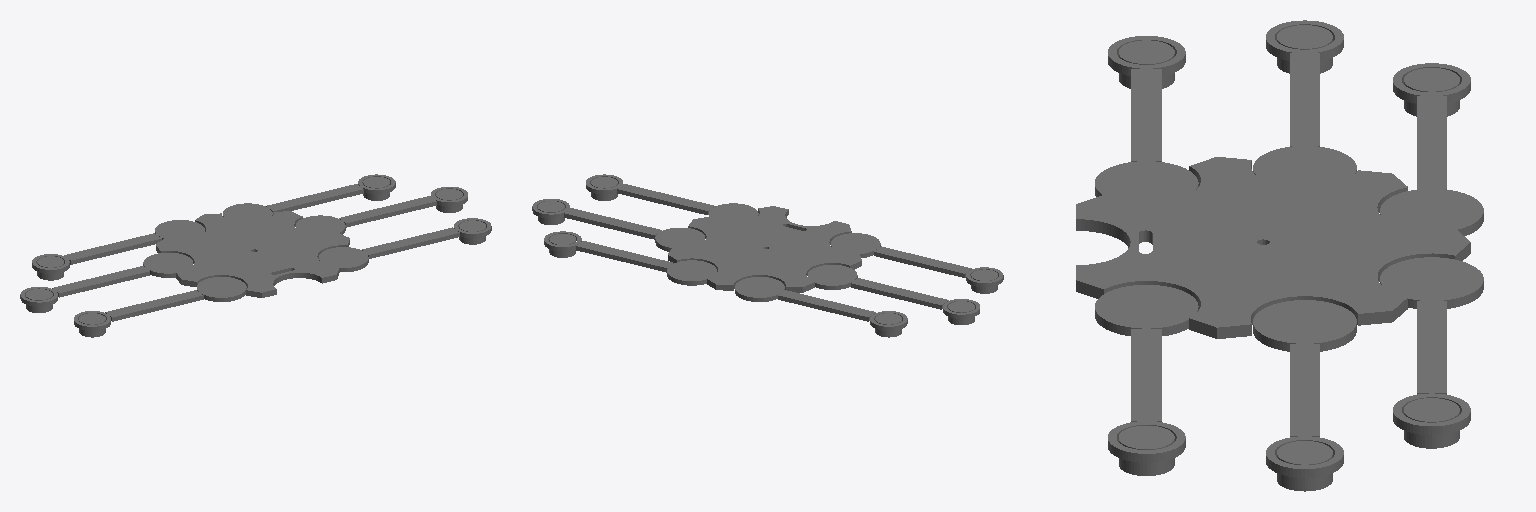
The robot description file, URDF, robot "hexapod":
<?xml version="1.0"?>
<robot name="hexapod">

    <link name="base_link">
        <visual>
        <origin xyz="0 0 0" rpy="0 0 0" />
        <geometry>
            <mesh filename="meshes/hexapod_base.stl" />
        </geometry>
        <material name="base_link_mat">
            <color rgba="0.5020 0.5020 0.5020 1.0"/>
        </material>
        </visual>
        <collision>
        <origin xyz="0 0 0" rpy="0 0 0" />
        <geometry>
            <mesh filename="meshes/hexapod_base.stl" />
        </geometry>
        </collision>
        <inertial>
        <mass value="2.0" />
        <inertia ixx="0.05" ixy="0" ixz="0" iyy="0.05" iyz="0" izz="0.05" />
        </inertial>
    </link>

    <link name="leg_l_0">
        <visual>
        <origin xyz="147.92 117.97 0" rpy="0 0 0" />
        <geometry>
            <mesh filename="meshes/leg_l_0.stl" />
        </geometry>
        <material name="leg_l_0_mat">
            <color rgba="0.5020 0.5020 0.5020 1.0"/>
        </material>
        </visual>
        <collision>
        <origin xyz="147.92 117.97 0" rpy="0 0 0" />
        <geometry>
            <mesh filename="meshes/leg_l_0.stl" />
        </geometry>
        </collision>
        <inertial>
        <mass value="0.2" />
        <inertia ixx="0.001" ixy="0" ixz="0" iyy="0.001" iyz="0" izz="0.001" />
        </inertial>
    </link>

    <link name="foot_l_0">
        <visual>
        <origin xyz="460.92 117.97 0" rpy="0 0 0" />
        <geometry>
            <mesh filename="meshes/foot_l_0.stl" />
        </geometry>
        <material name="foot_l_0_mat">
            <color rgba="0.5020 0.5020 0.5020 1.0"/>
        </material>
        </visual>
        <collision>
        <origin xyz="460.92 117.97 0" rpy="0 0 0" />
        <geometry>
            <mesh filename="meshes/foot_l_0.stl" />
        </geometry>
        </collision>
        <inertial>
        <mass value="0.1" />
        <inertia ixx="0.0005" ixy="0" ixz="0" iyy="0.0005" iyz="0" izz="0.0005" />
        </inertial>
    </link>

    <link name="leg_l_1">
        <visual>
        <origin xyz="184.46 -42.11 0" rpy="0 0 0" />
        <geometry>
            <mesh filename="meshes/leg_l_1.stl" />
        </geometry>
        <material name="leg_l_1_mat">
            <color rgba="0.5020 0.5020 0.5020 1.0"/>
        </material>
        </visual>
        <collision>
        <origin xyz="184.46 -42.11 0" rpy="0 0 0" />
        <geometry>
            <mesh filename="meshes/leg_l_1.stl" />
        </geometry>
        </collision>
        <inertial>
        <mass value="0.2" />
        <inertia ixx="0.001" ixy="0" ixz="0" iyy="0.001" iyz="0" izz="0.001" />
        </inertial>
    </link>

    <link name="foot_l_1">
        <visual>
        <origin xyz="497.46 -42.11 0" rpy="0 0 0" />
        <geometry>
            <mesh filename="meshes/foot_l_1.stl" />
        </geometry>
        <material name="foot_l_1_mat">
            <color rgba="0.5020 0.5020 0.5020 1.0"/>
        </material>
        </visual>
        <collision>
        <origin xyz="497.46 -42.11 0" rpy="0 0 0" />
        <geometry>
            <mesh filename="meshes/foot_l_1.stl" />
        </geometry>
        </collision>
        <inertial>
        <mass value="0.1" />
        <inertia ixx="0.0005" ixy="0" ixz="0" iyy="0.0005" iyz="0" izz="0.0005" />
        </inertial>
    </link>

    <link name="leg_l_2">
        <visual>
        <origin xyz="82.1 -170.46 0" rpy="0 0 0" />
        <geometry>
            <mesh filename="meshes/leg_l_2.stl" />
        </geometry>
        <material name="leg_l_2_mat">
            <color rgba="0.5020 0.5020 0.5020 1.0"/>
        </material>
        </visual>
        <collision>
        <origin xyz="82.1 -170.46 0" rpy="0 0 0" />
        <geometry>
            <mesh filename="meshes/leg_l_2.stl" />
        </geometry>
        </collision>
        <inertial>
        <mass value="0.2" />
        <inertia ixx="0.001" ixy="0" ixz="0" iyy="0.001" iyz="0" izz="0.001" />
        </inertial>
    </link>

    <link name="foot_l_2">
        <visual>
        <origin xyz="395.1 -170.46 0" rpy="0 0 0" />
        <geometry>
            <mesh filename="meshes/foot_l_2.stl" />
        </geometry>
        <material name="foot_l_2_mat">
            <color rgba="0.5020 0.5020 0.5020 1.0"/>
        </material>
        </visual>
        <collision>
        <origin xyz="395.1 -170.46 0" rpy="0 0 0" />
        <geometry>
            <mesh filename="meshes/foot_l_2.stl" />
        </geometry>
        </collision>
        <inertial>
        <mass value="0.1" />
        <inertia ixx="0.0005" ixy="0" ixz="0" iyy="0.0005" iyz="0" izz="0.0005" />
        </inertial>
    </link>

    <link name="leg_r_0">
        <visual>
        <origin xyz="-147.92 117.97 0" rpy="0 0 0" />
        <geometry>
            <mesh filename="meshes/leg_r_0.stl" />
        </geometry>
        <material name="leg_r_0_mat">
            <color rgba="0.5020 0.5020 0.5020 1.0"/>
        </material>
        </visual>
        <collision>
        <origin xyz="-147.92 117.97 0" rpy="0 0 0" />
        <geometry>
            <mesh filename="meshes/leg_r_0.stl" />
        </geometry>
        </collision>
        <inertial>
        <mass value="0.2" />
        <inertia ixx="0.001" ixy="0" ixz="0" iyy="0.001" iyz="0" izz="0.001" />
        </inertial>
    </link>

    <link name="foot_r_0">
        <visual>
        <origin xyz="-460.92 117.97 0" rpy="0 0 0" />
        <geometry>
            <mesh filename="meshes/foot_r_0.stl" />
        </geometry>
        <material name="foot_r_0_mat">
            <color rgba="0.5020 0.5020 0.5020 1.0"/>
        </material>
        </visual>
        <collision>
        <origin xyz="-460.92 117.97 0" rpy="0 0 0" />
        <geometry>
            <mesh filename="meshes/foot_r_0.stl" />
        </geometry>
        </collision>
        <inertial>
        <mass value="0.1" />
        <inertia ixx="0.0005" ixy="0" ixz="0" iyy="0.0005" iyz="0" izz="0.0005" />
        </inertial>
    </link>

    <link name="leg_r_1">
        <visual>
        <origin xyz="-184.46 -42.11 0" rpy="0 0 0" />
        <geometry>
            <mesh filename="meshes/leg_r_1.stl" />
        </geometry>
        <material name="leg_r_1_mat">
            <color rgba="0.5020 0.5020 0.5020 1.0"/>
        </material>
        </visual>
        <collision>
        <origin xyz="-184.46 -42.11 0" rpy="0 0 0" />
        <geometry>
            <mesh filename="meshes/leg_r_1.stl" />
        </geometry>
        </collision>
        <inertial>
        <mass value="0.2" />
        <inertia ixx="0.001" ixy="0" ixz="0" iyy="0.001" iyz="0" izz="0.001" />
        </inertial>
    </link>

    <link name="foot_r_1">
        <visual>
        <origin xyz="-497.46 -42.11 0" rpy="0 0 0" />
        <geometry>
            <mesh filename="meshes/foot_r_1.stl" />
        </geometry>
        <material name="foot_r_1_mat">
            <color rgba="0.5020 0.5020 0.5020 1.0"/>
        </material>
        </visual>
        <collision>
        <origin xyz="-497.46 -42.11 0" rpy="0 0 0" />
        <geometry>
            <mesh filename="meshes/foot_r_1.stl" />
        </geometry>
        </collision>
        <inertial>
        <mass value="0.1" />
        <inertia ixx="0.0005" ixy="0" ixz="0" iyy="0.0005" iyz="0" izz="0.0005" />
        </inertial>
    </link>

    <link name="leg_r_2">
        <visual>
        <origin xyz="-82.1 -170.46 0" rpy="0 0 0" />
        <geometry>
            <mesh filename="meshes/leg_r_2.stl" />
        </geometry>
        <material name="leg_r_2_mat">
            <color rgba="0.5020 0.5020 0.5020 1.0"/>
        </material>
        </visual>
        <collision>
        <origin xyz="-82.1 -170.46 0" rpy="0 0 0" />
        <geometry>
            <mesh filename="meshes/leg_r_2.stl" />
        </geometry>
        </collision>
        <inertial>
        <mass value="0.2" />
        <inertia ixx="0.001" ixy="0" ixz="0" iyy="0.001" iyz="0" izz="0.001" />
        </inertial>
    </link>

    <link name="foot_r_2">
        <visual>
        <origin xyz="-395.1 -170.46 0" rpy="0 0 0" />
        <geometry>
            <mesh filename="meshes/foot_r_2.stl" />
        </geometry>
        <material name="foot_r_2_mat">
            <color rgba="0.5020 0.5020 0.5020 1.0"/>
        </material>
        </visual>
        <collision>
        <origin xyz="-395.1 -170.46 0" rpy="0 0 0" />
        <geometry>
            <mesh filename="meshes/foot_r_2.stl" />
        </geometry>
        </collision>
        <inertial>
        <mass value="0.1" />
        <inertia ixx="0.0005" ixy="0" ixz="0" iyy="0.0005" iyz="0" izz="0.0005" />
        </inertial>
    </link>

    <joint name="j_base_to_leg_l_0" type="revolute">
        <parent link="base_link" />
        <child link="leg_l_0" />
        <origin xyz="-147.92 -117.97 0" rpy="0 0 0" />
        <axis xyz="0 0 1" />
        <limit lower="-0.2618" upper="1.571" effort="10" velocity="0.5" />
        <dynamics damping="0.1" friction="1.6" />
    </joint>

    <joint name="j_leg_l_0_to_foot_l_0" type="prismatic">
        <parent link="leg_l_0" />
        <child link="foot_l_0" />
        <origin xyz="-313 0 0" rpy="0 0 0" />
        <axis xyz="0 0 1" />
        <limit lower="0" upper="31" effort="10" velocity="0.5" />
        <dynamics damping="0.1" friction="1.6" />
    </joint>

    <joint name="j_base_to_leg_l_1" type="revolute">
        <parent link="base_link" />
        <child link="leg_l_1" />
        <origin xyz="-184.46 42.11 0" rpy="0 0 0" />
        <axis xyz="0 0 1" />
        <limit lower="-0.6981317" upper="1.134464" effort="10" velocity="0.5" />
        <dynamics damping="0.1" friction="1.6" />
    </joint>

    <joint name="j_leg_l_1_to_foot_l_1" type="prismatic">
        <parent link="leg_l_1" />
        <child link="foot_l_1" />
        <origin xyz="-313 0 0" rpy="0 0 0" />
        <axis xyz="0 0 1" />
        <limit lower="0" upper="31" effort="10" velocity="0.5" />
        <dynamics damping="0.1" friction="1.6" />
    </joint>

    <joint name="j_base_to_leg_l_2" type="revolute">
        <parent link="base_link" />
        <child link="leg_l_2" />
        <origin xyz="-82.1 170.46 0" rpy="0 0 0" />
        <axis xyz="0 0 1" />
        <limit lower="-1.570796" upper="0" effort="10" velocity="0.5" />
        <dynamics damping="0.1" friction="1.6" />
    </joint>

    <joint name="j_leg_l_2_to_foot_l_2" type="prismatic">
        <parent link="leg_l_2" />
        <child link="foot_l_2" />
        <origin xyz="-313 0 0" rpy="0 0 0" />
        <axis xyz="0 0 1" />
        <limit lower="0" upper="31" effort="10" velocity="0.5" />
        <dynamics damping="0.1" friction="1.6" />
    </joint>

    <joint name="j_base_to_leg_r_0" type="revolute">
        <parent link="base_link" />
        <child link="leg_r_0" />
        <origin xyz="147.92 -117.97 0" rpy="0 0 0" />
        <axis xyz="0 0 1" />
        <limit lower="-1.571" upper="0.2618" effort="10" velocity="0.5" />
        <dynamics damping="0.1" friction="1.6" />
    </joint>

    <joint name="j_leg_r_0_to_foot_r_0" type="prismatic">
        <parent link="leg_r_0" />
        <child link="foot_r_0" />
        <origin xyz="313 0 0" rpy="0 0 0" />
        <axis xyz="0 0 1" />
        <limit lower="0" upper="31" effort="10" velocity="0.5" />
        <dynamics damping="0.1" friction="1.6" />
    </joint>

    <joint name="j_base_to_leg_r_1" type="revolute">
        <parent link="base_link" />
        <child link="leg_r_1" />
        <origin xyz="184.46 42.11 0" rpy="0 0 0" />
        <axis xyz="0 0 1" />
        <limit lower="-1.134464" upper="0.6981317" effort="10" velocity="0.5" />
        <dynamics damping="0.1" friction="1.6" />
    </joint>

    <joint name="j_leg_r_1_to_foot_r_1" type="prismatic">
        <parent link="leg_r_1" />
        <child link="foot_r_1" />
        <origin xyz="313 0 0" rpy="0 0 0" />
        <axis xyz="0 0 1" />
        <limit lower="0" upper="31" effort="10" velocity="0.5" />
        <dynamics damping="0.1" friction="1.6" />
    </joint>

    <joint name="j_base_to_leg_r_2" type="revolute">
        <parent link="base_link" />
        <child link="leg_r_2" />
        <origin xyz="82.1 170.46 0" rpy="0 0 0" />
        <axis xyz="0 0 1" />
        <limit lower="0" upper="1.570796" effort="10" velocity="0.5" />
        <dynamics damping="0.1" friction="1.6" />
    </joint>

    <joint name="j_leg_r_2_to_foot_r_2" type="prismatic">
        <parent link="leg_r_2" />
        <child link="foot_r_2" />
        <origin xyz="313 0 0" rpy="0 0 0" />
        <axis xyz="0 0 1" />
        <limit lower="0" upper="31" effort="10" velocity="0.5" />
        <dynamics damping="0.1" friction="1.6" />
    </joint>

    </robot>

--- Facts derived from the render (not from the file) ---
The picture shows the robot from 3 angles, left to right: view 1: azimuth 30°, elevation 25°; view 2: azimuth 150°, elevation 25°; view 3: azimuth 270°, elevation 25°; orthographic projection.
Model hexapod with 13 links and 12 joints (6 revolute, 6 prismatic), rooted at base_link, posed every joint at zero.
Links seen in each view (by area): view 1: base_link, leg_l_0, leg_l_1, leg_r_0, leg_l_2, leg_r_1, leg_r_2; view 2: base_link, leg_l_2, leg_r_2, leg_l_1, leg_l_0, leg_r_1, leg_r_0; view 3: base_link, leg_r_1, leg_r_0, leg_r_2, leg_l_2, leg_l_0, leg_l_1, foot_r_2, foot_r_0, foot_r_1, foot_l_1, foot_l_2 (+1 smaller).
Boxes of the visible links, left/top/right/bottom form: base_link: left=156, top=211, right=349, bottom=297; leg_l_0: left=74, top=277, right=246, bottom=330; leg_l_1: left=20, top=253, right=192, bottom=306; leg_r_0: left=319, top=218, right=491, bottom=271; leg_l_2: left=32, top=220, right=204, bottom=273; leg_r_1: left=296, top=187, right=467, bottom=235; leg_r_2: left=223, top=174, right=395, bottom=223; base_link: left=668, top=206, right=861, bottom=292; leg_l_2: left=735, top=277, right=907, bottom=330; leg_r_2: left=544, top=231, right=716, bottom=285; leg_l_1: left=808, top=265, right=979, bottom=318; leg_l_0: left=831, top=233, right=1003, bottom=286; leg_r_1: left=532, top=199, right=704, bottom=251; leg_r_0: left=586, top=174, right=758, bottom=223; base_link: left=1076, top=157, right=1470, bottom=338; leg_r_1: left=1253, top=300, right=1356, bottom=477; leg_r_0: left=1095, top=285, right=1198, bottom=462; leg_r_2: left=1380, top=257, right=1483, bottom=434; leg_l_2: left=1380, top=63, right=1483, bottom=235; leg_l_0: left=1095, top=36, right=1198, bottom=202; leg_l_1: left=1253, top=20, right=1356, bottom=187; foot_r_2: left=1404, top=398, right=1459, bottom=448; foot_r_0: left=1119, top=426, right=1174, bottom=475; foot_r_1: left=1277, top=441, right=1332, bottom=491; foot_l_1: left=1277, top=25, right=1332, bottom=73; foot_l_2: left=1404, top=68, right=1459, bottom=116.
Size in the robot's own frame: 1074 by 412 by 33 metres.
13 mesh visuals loaded from 13 distinct referenced files (13 binary STL).
